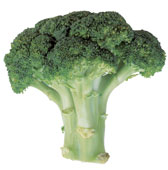broccoli: (3, 9, 165, 162)
